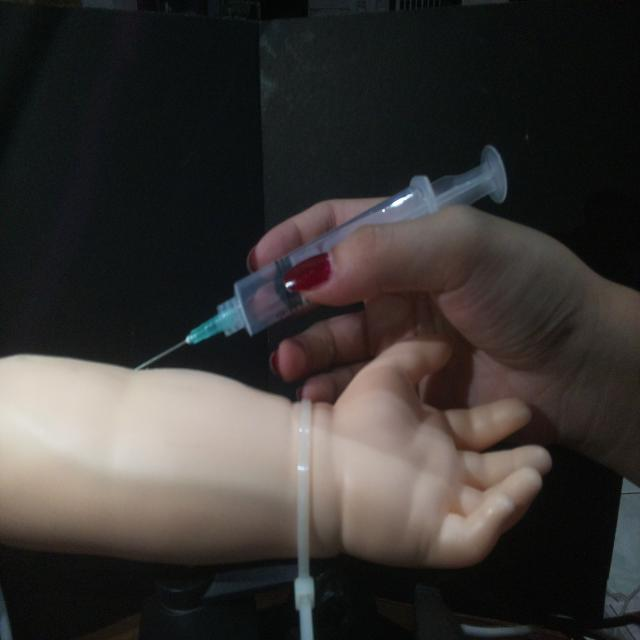22deg: (130, 139, 512, 373)
